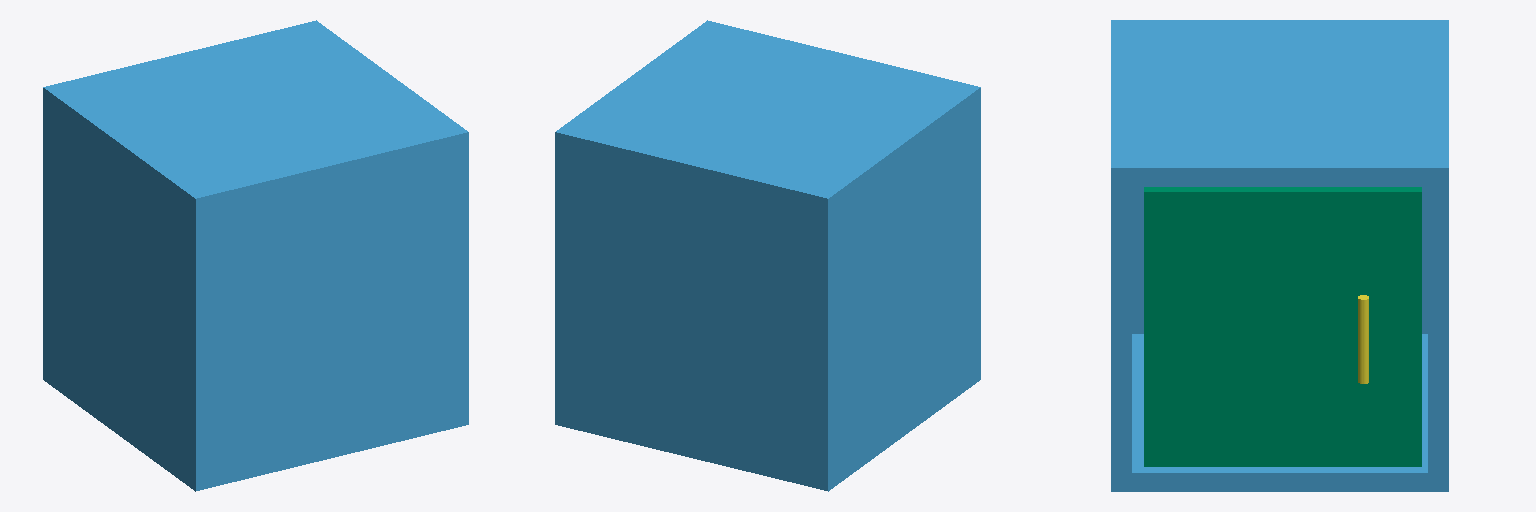
robot.urdf — my_cabinet:
<?xml version="1.0" ?>
<robot name="my_cabinet">
	<link name="world"/>
	<joint name="virtual_joint" type="fixed">
		<parent link="world"/>
		<child link="base_cabinet_link"/>
		<origin xyz="0.0 0.0 0.0" rpy="0.0 0.0 0.0"/>
	</joint>
	<link name="base_cabinet_link">
		<visual>
			<origin xyz="0.0 -0.0025 -0.14444436152229523" rpy="0.0 0.0 0.0"/>
			<geometry>
				<box size="0.3 0.2897092186612406 0.018"/>
			</geometry>
		</visual>
		<collision name="base_cabinet_link_collision_0">
			<origin xyz="0.0 -0.0025 -0.14444436152229523" rpy="0.0 0.0 0.0"/>
			<geometry>
				<box size="0.3 0.2897092186612406 0.018"/>
			</geometry>
		</collision>
		<visual>
			<origin xyz="0.0 0.13335460933062032 0.0" rpy="0.0 0.0 0.0"/>
			<geometry>
				<box size="0.3 0.018 0.3068887230445905"/>
			</geometry>
		</visual>
		<collision name="base_cabinet_link_collision_1">
			<origin xyz="0.0 0.13335460933062032 0.0" rpy="0.0 0.0 0.0"/>
			<geometry>
				<box size="0.3 0.018 0.3068887230445905"/>
			</geometry>
		</collision>
		<visual>
			<origin xyz="0.0 -0.13835460933062033 0.0" rpy="0.0 0.0 0.0"/>
			<geometry>
				<box size="0.3 0.018 0.3068887230445905"/>
			</geometry>
		</visual>
		<collision name="base_cabinet_link_collision_2">
			<origin xyz="0.0 -0.13835460933062033 0.0" rpy="0.0 0.0 0.0"/>
			<geometry>
				<box size="0.3 0.018 0.3068887230445905"/>
			</geometry>
		</collision>
		<visual>
			<origin xyz="0.0 -0.0025 0.14444436152229523" rpy="0.0 0.0 0.0"/>
			<geometry>
				<box size="0.3 0.2897092186612406 0.018"/>
			</geometry>
		</visual>
		<collision name="base_cabinet_link_collision_3">
			<origin xyz="0.0 -0.0025 0.14444436152229523" rpy="0.0 0.0 0.0"/>
			<geometry>
				<box size="0.3 0.2897092186612406 0.018"/>
			</geometry>
		</collision>
		<visual>
			<origin xyz="-0.141 -0.0025 0.0" rpy="0.0 0.0 0.0"/>
			<geometry>
				<box size="0.018 0.2897092186612406 0.3068887230445905"/>
			</geometry>
		</visual>
		<collision name="base_cabinet_link_collision_4">
			<origin xyz="-0.141 -0.0025 0.0" rpy="0.0 0.0 0.0"/>
			<geometry>
				<box size="0.018 0.2897092186612406 0.3068887230445905"/>
			</geometry>
		</collision>
		<inertial>
			<mass value="0.200000"/>
			<inertia ixx="0.002969" ixy="0.0" ixz="0.0" iyy="0.003070" iyz="0.0" izz="0.002899"/>
		</inertial>
	</link>
	<link name="door_link">
		<visual>
			<origin xyz="0.0 -0.11935460933062031 0.0"/>
			<geometry>
				<box size="0.018 0.23870921866124062 0.26088872304459043"/>
			</geometry>
		</visual>
		<collision name="door_link_collision">
			<origin xyz="0.0 -0.11935460933062031 0.0"/>
			<geometry>
				<box size="0.018 0.23870921866124062 0.26088872304459043"/>
			</geometry>
		</collision>
		<inertial>
			<mass value="0.200000"/>
			<inertia ixx="0.002084" ixy="0.0" ixz="0.0" iyy="0.001140" iyz="0.0" izz="0.000955"/>
		</inertial>
	</link>
	<joint name="door_joint" type="revolute">
		<origin xyz="0.141 -0.11935460933062031 0.0" rpy="0.000000 -0.000000 3.141593"/>
		<axis xyz="0 0 1"/>
		<parent link="base_cabinet_link"/>
		<child link="door_link"/>
		<limit effort="50" lower="-1.658062789394613" upper="0" velocity="10"/>
		<dynamics friction="3.5" damping="3.5"/>
	</joint>
	<link name="handle_link">
		<visual>
			<origin xyz="0.0 0.0 0.0" rpy="0.0 0.0 0.0"/>
			<geometry>
				<cylinder length="0.08" radius="0.005"/>
			</geometry>
		</visual>
		<collision name="handle_link_collision_0">
			<origin xyz="0.0 0.0 0.0" rpy="0.0 0.0 0.0"/>
			<geometry>
				<cylinder length="0.08" radius="0.005"/>
			</geometry>
		</collision>
		<visual>
			<origin xyz="-0.01 0.0 0.02" rpy="0.0 1.5707963267948966 0.0"/>
			<geometry>
				<cylinder length="0.02" radius="0.003"/>
			</geometry>
		</visual>
		<collision name="handle_link_collision_1">
			<origin xyz="-0.01 0.0 0.02" rpy="0.0 1.5707963267948966 0.0"/>
			<geometry>
				<cylinder length="0.01" radius="0.003"/>
			</geometry>
		</collision>
		<visual>
			<origin xyz="-0.01 0.0 -0.02" rpy="0.0 1.5707963267948966 0.0"/>
			<geometry>
				<cylinder length="0.02" radius="0.003"/>
			</geometry>
		</visual>
		<collision name="handle_link_collision_2">
			<origin xyz="-0.01 0.0 -0.02" rpy="0.0 1.5707963267948966 0.0"/>
			<geometry>
				<cylinder length="0.02" radius="0.003"/>
			</geometry>
		</collision>
		<inertial>
			<mass value="0.050000"/>
			<inertia ixx="0.000027" ixy="0.0" ixz="0.0" iyy="0.000029" iyz="0.0" izz="0.000003"/>
		</inertial>
	</link>
	<joint name="handle_joint" type="fixed">
		<origin xyz="-0.028999999999999998 -0.18870921866124063 0.0" rpy="0.000000 -0.000000 3.141593"/>
		<parent link="door_link"/>
		<child link="handle_link"/>
	</joint>
	<gazebo reference="base_cabinet_link">
		<sensor name="main_sensor" type="contact">
			<selfCollide>true</selfCollide>
			<alwaysOn>true</alwaysOn>
			<updateRate>5.0</updateRate>
			<material>Gazebo/Red</material>
			<contact>
				<collision>base_cabinet_link_collision_0_collision</collision>
				<collision>base_cabinet_link_collision_1_collision</collision>
				<collision>base_cabinet_link_collision_2_collision</collision>
				<collision>base_cabinet_link_collision_3_collision</collision>
				<collision>base_cabinet_link_collision_4_collision</collision>
			</contact>
			<plugin name="gazebo_ros_bumper_controller" filename="libgazebo_ros_bumper.so">
				<bumperTopicName>/contact</bumperTopicName>
				<frameName>world</frameName>
			</plugin>
		</sensor>
	</gazebo>
	<gazebo reference="door_link">
		<sensor name="main_sensor" type="contact">
			<selfCollide>true</selfCollide>
			<alwaysOn>true</alwaysOn>
			<updateRate>5.0</updateRate>
			<material>Gazebo/Red</material>
			<contact>
				<collision>door_link_collision_collision</collision>
			</contact>
			<plugin name="gazebo_ros_bumper_controller" filename="libgazebo_ros_bumper.so">
				<bumperTopicName>/contact_door</bumperTopicName>
				<frameName>contact_door</frameName>
			</plugin>
		</sensor>
	</gazebo>
	<gazebo reference="door_link">
		<mu>3.0</mu>
		<mu2>3.0</mu2>
		<kp>10000000</kp>
		<kd>100</kd>
	</gazebo>
</robot>

--- What the picture shows (computed from the rendered views, not written in the file) ---
Views: 3 orthographic renders of the robot side by side, from view 1: azimuth 30°, elevation 25°; view 2: azimuth 150°, elevation 25°; view 3: azimuth 270°, elevation 25°.
Model my_cabinet with 4 links and 3 joints (1 revolute, 2 fixed), rooted at world, posed all joints at 0.
Visible links, largest first — view 1: base_cabinet_link; view 2: base_cabinet_link; view 3: base_cabinet_link, door_link, handle_link.
Boxes of the visible links, x1=… form: base_cabinet_link: x1=43, y1=20, x2=468, y2=491; base_cabinet_link: x1=555, y1=20, x2=980, y2=491; base_cabinet_link: x1=1111, y1=20, x2=1448, y2=491; door_link: x1=1144, y1=187, x2=1421, y2=466; handle_link: x1=1358, y1=295, x2=1368, y2=383.
Bounding box of the posed robot: 0.325 × 0.2897 × 0.3069 m (x, y, z).
Geometry: primitives only (box / cylinder / sphere), no mesh files.
